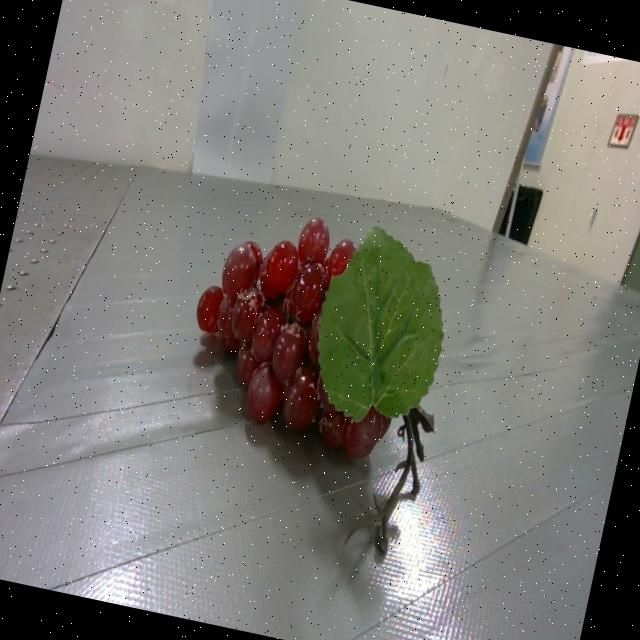grape: (195, 216, 442, 558)
